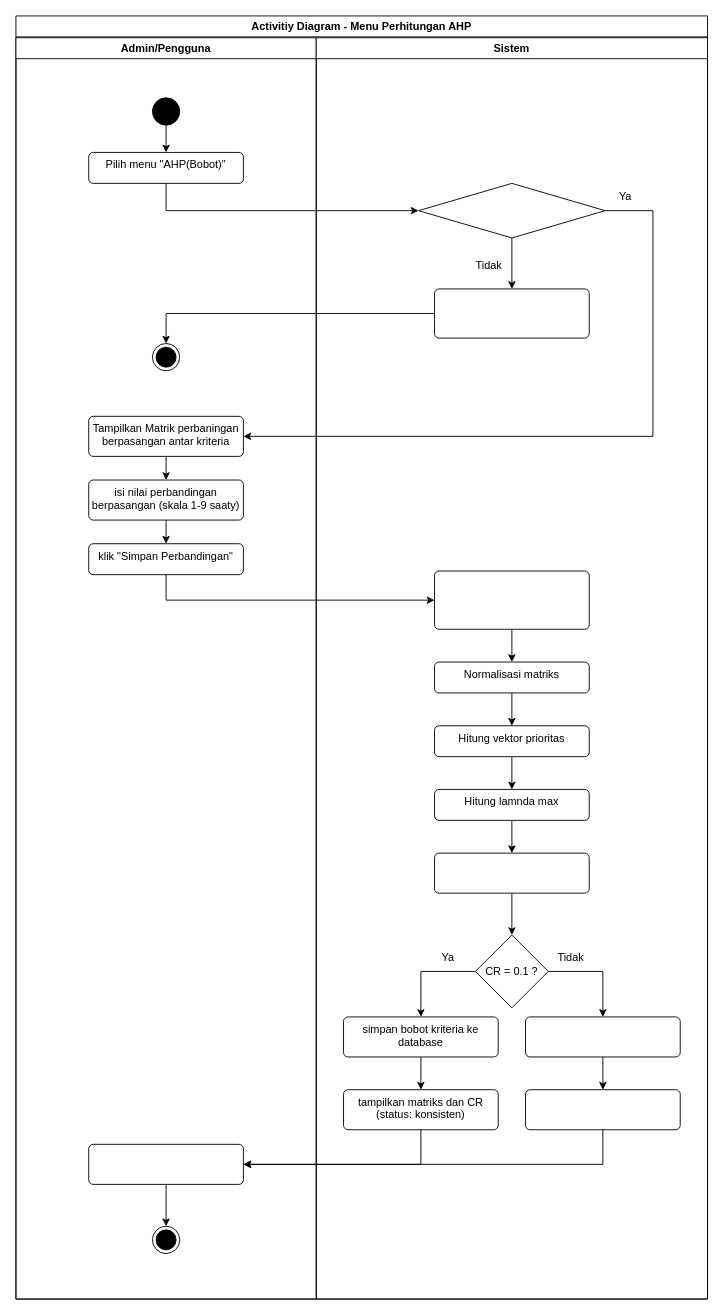
Some shapes in this 723 by 1315 pixel diagram are drawn without their labels. Each missing label, with the centre of its shape:
bangun matrik perbandingan berpasangan (diagonal=1:resiprokal otomatis): pixel 511 599
Hitung consistention index (ci) dan consistention ratio (cr): pixel 511 872
jumlah Kriteria > 2?: pixel 511 210
Melihat hasil bobot dan status konsistensi: pixel 165 1163
tampilkan matriks dan CR (status: tidak konsisten): pixel 602 1036
tampilkan peringatan "Perbaiki nilai perbandingan": pixel 602 1109
Tampilkan pesan error "minimal 2 kriteria untuk perhitungan AHP": pixel 511 313
